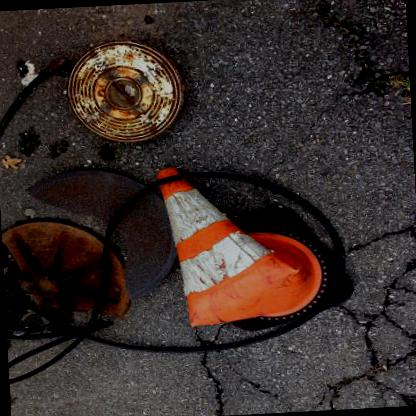cone: (170, 156, 346, 330)
